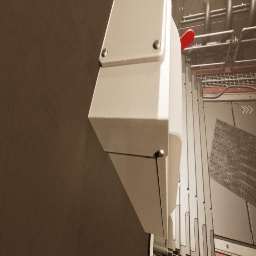SafetySwitchPanel ,: (88, 0, 195, 240)
